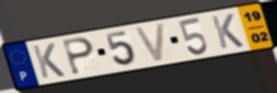5: (104, 29, 138, 68), (177, 16, 209, 56)
K: (30, 42, 68, 80), (209, 13, 246, 51)
P: (61, 36, 97, 76)
V: (132, 21, 168, 64)
